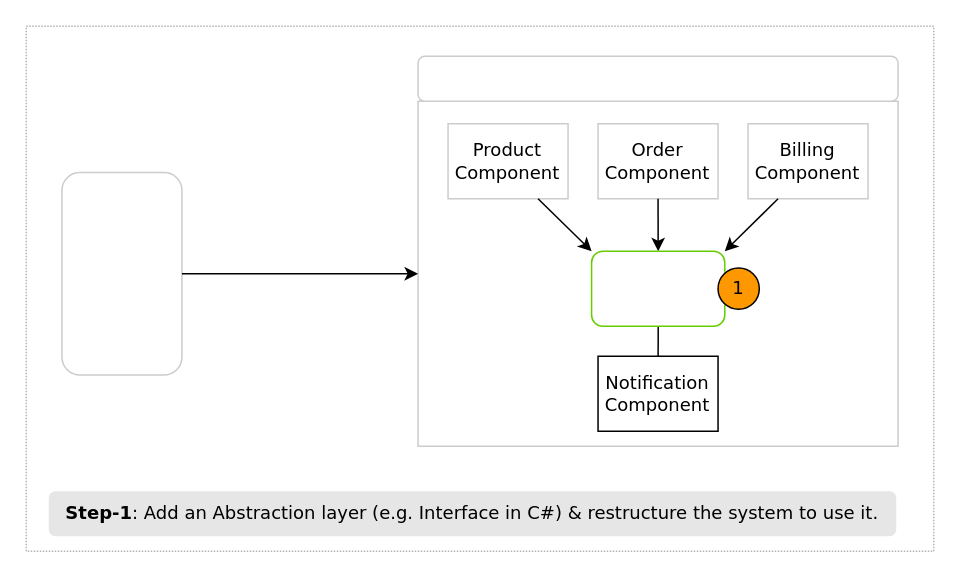
The diagram is 960 pixels wide and 578 high, and some of its shapes have lost their labels. The shapes that lost their labels are listed below. From the top down, each one's centre as x and y in pixels, then its label:
the point at 657,78: Back End - Monolith
the point at 121,273: Front End (e.g. Web)
the point at 657,288: Abstraction Layer
